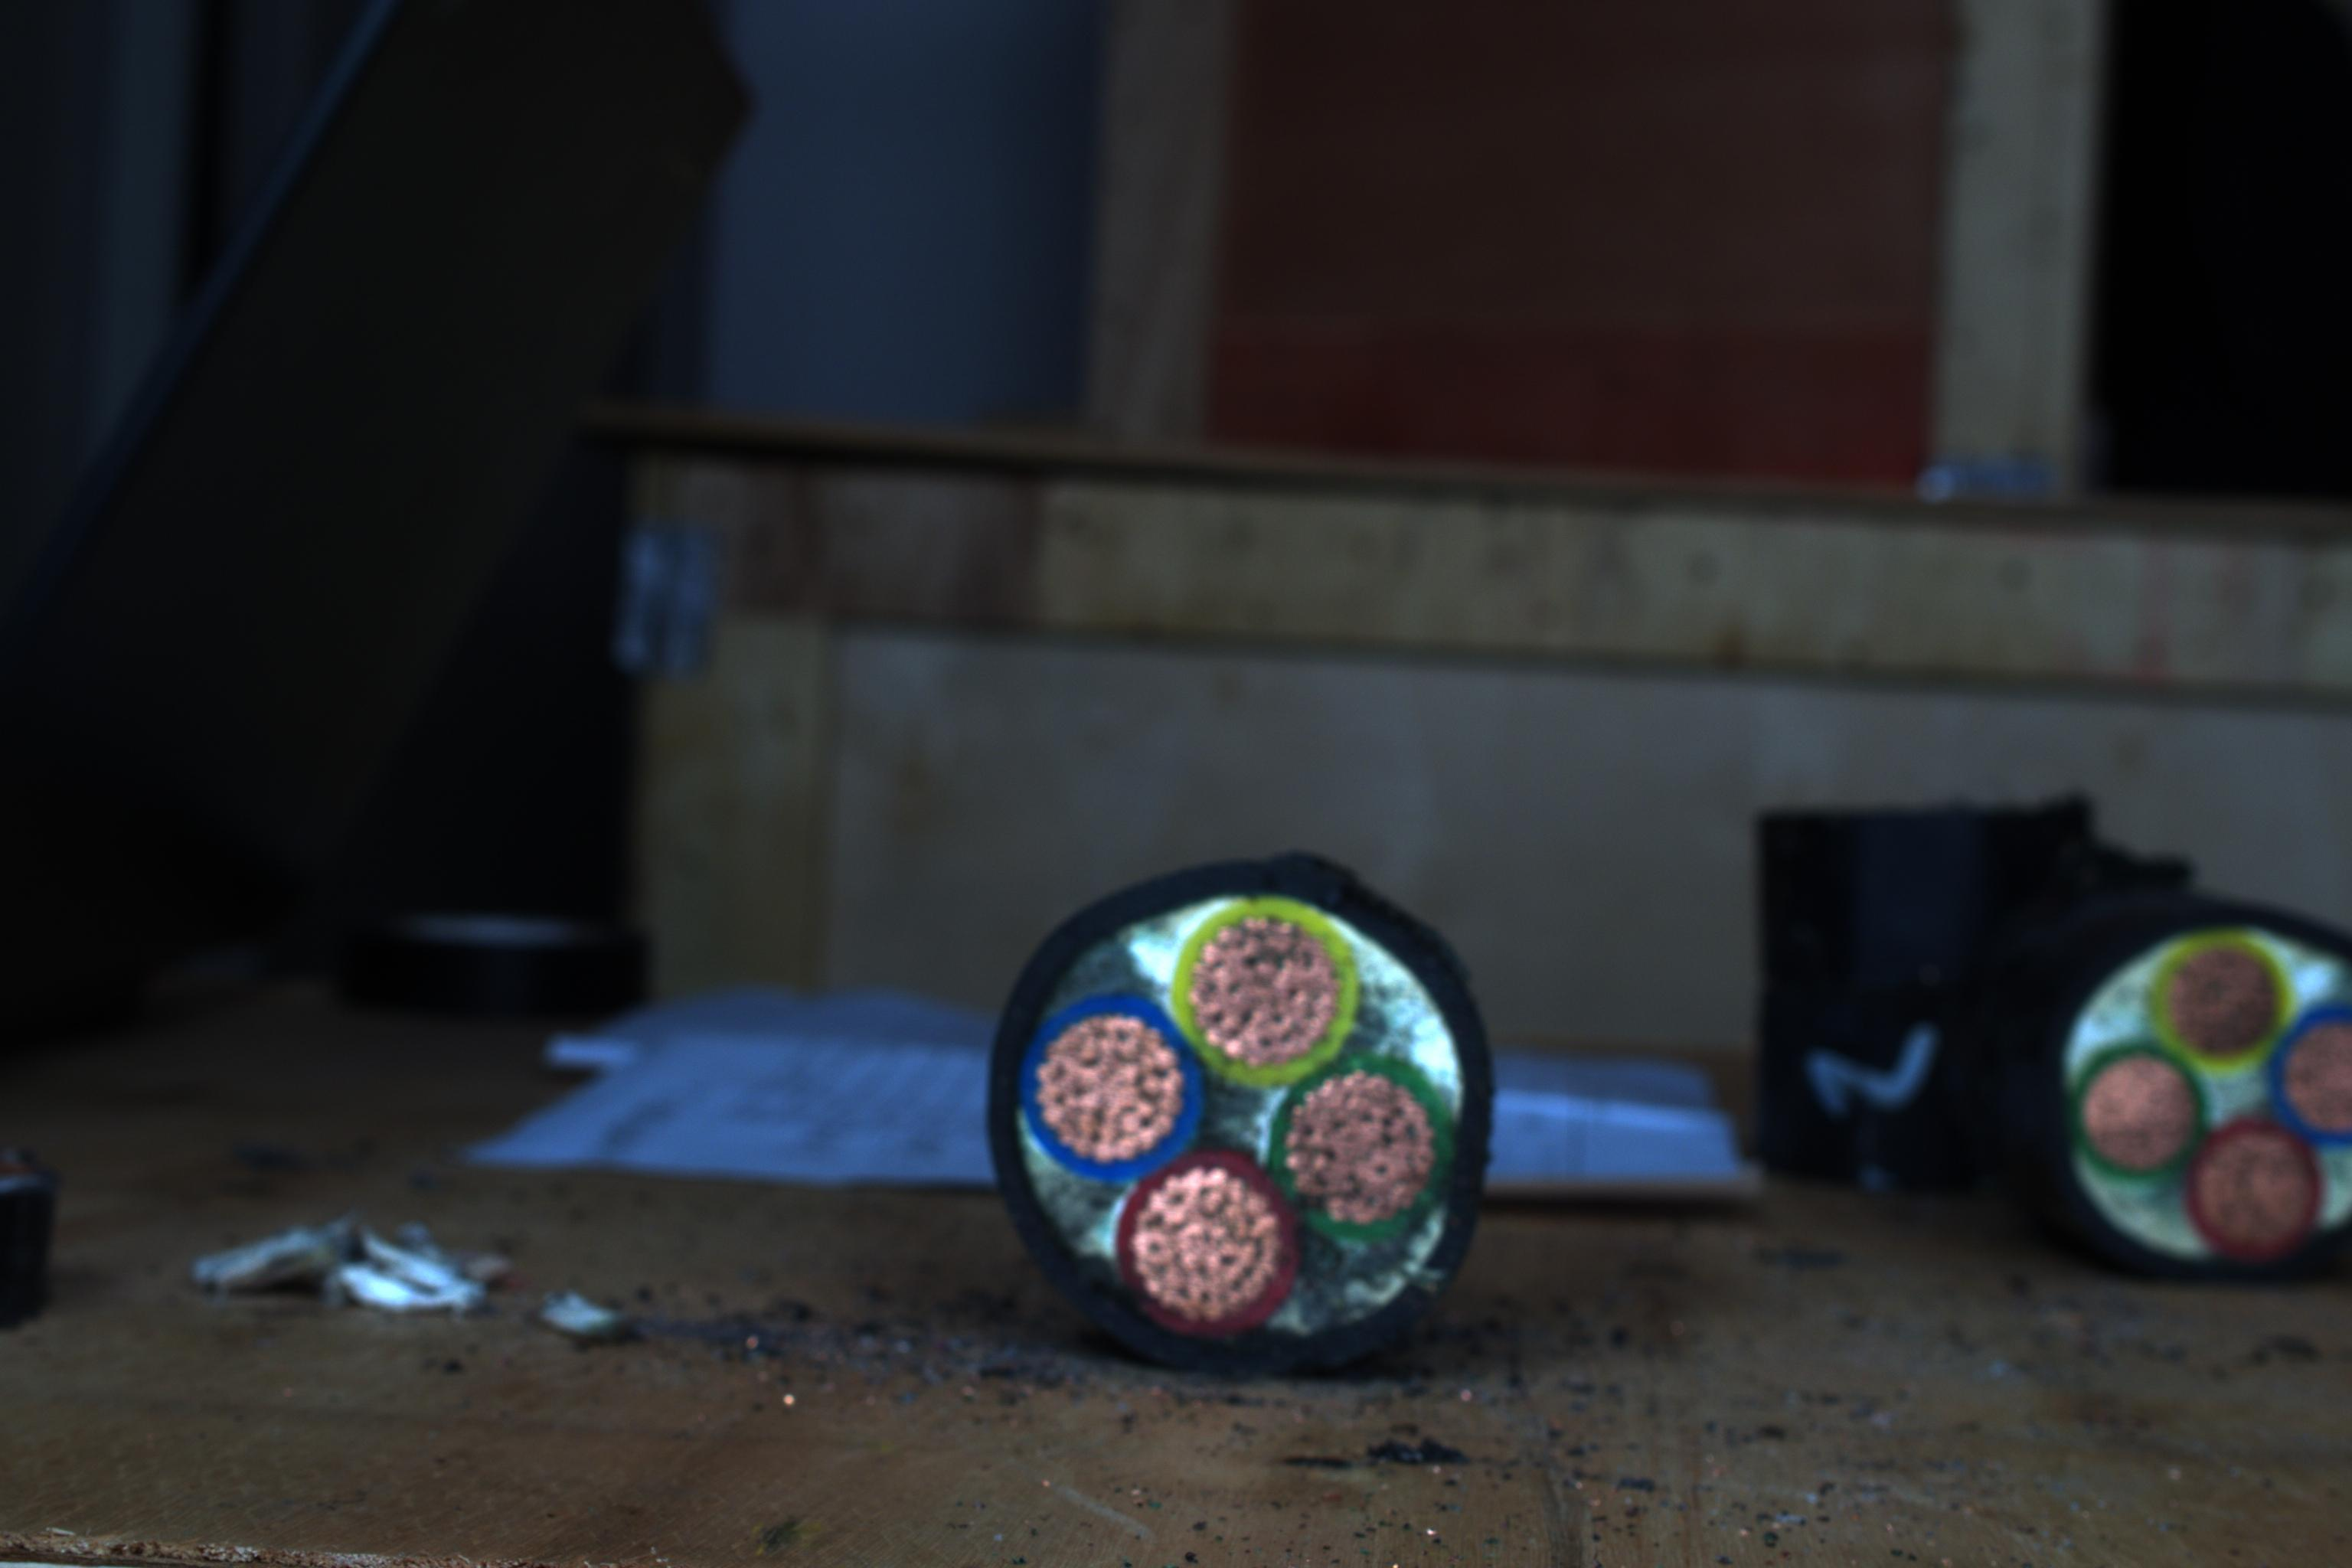YJV_0.6_1kV_4x185: (989, 864, 1482, 1344)
